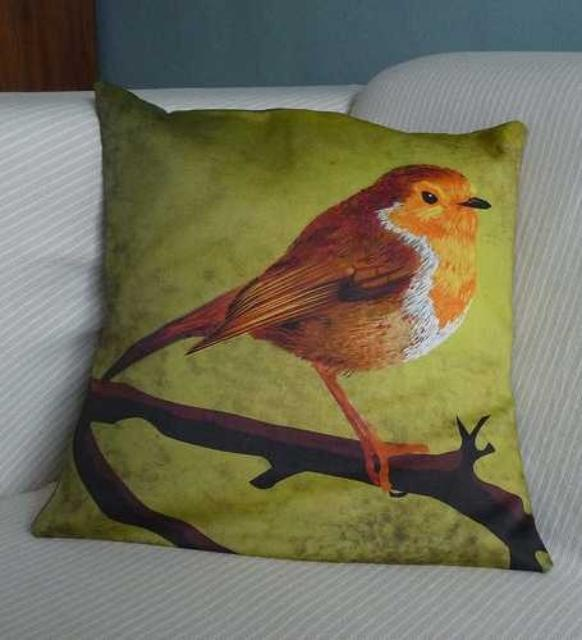pillow: (29, 80, 553, 572)
